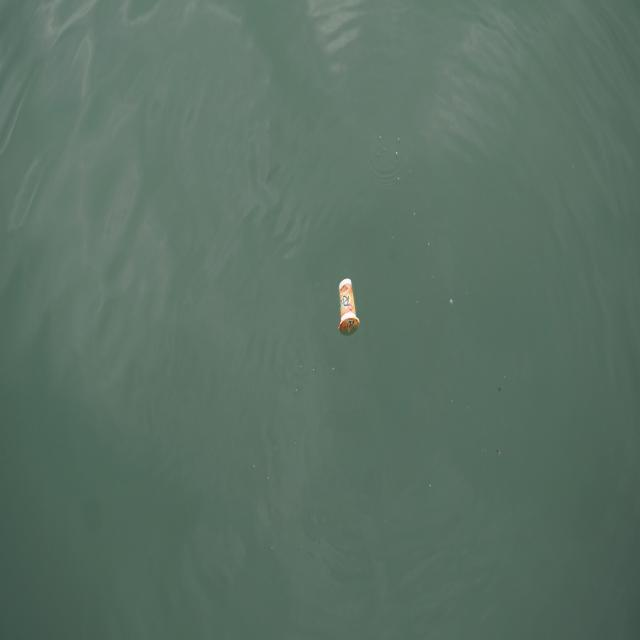Bungkus Minuman: (335, 274, 365, 341)
